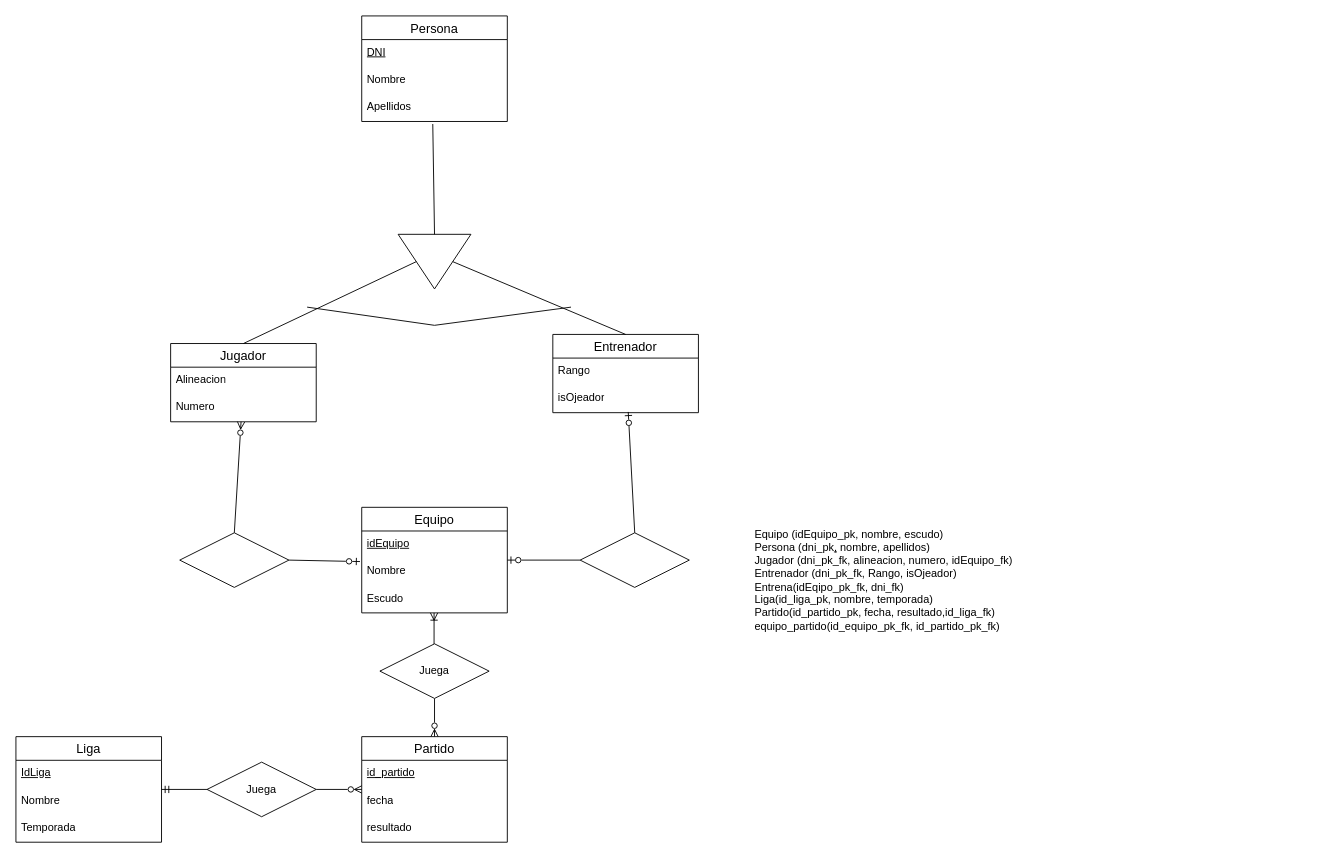
This 1324x861 diagram has some shape labels left out. Here are the shapes that lost their labels. From the top down, the centre of each, then its label:
the point at 234,559: Pertenece
the point at 634,559: Entrena
